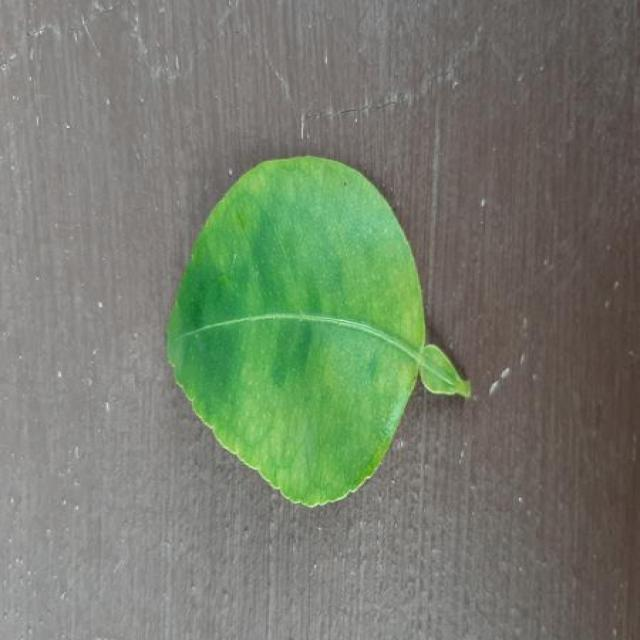lemon: (167, 156, 470, 506)
